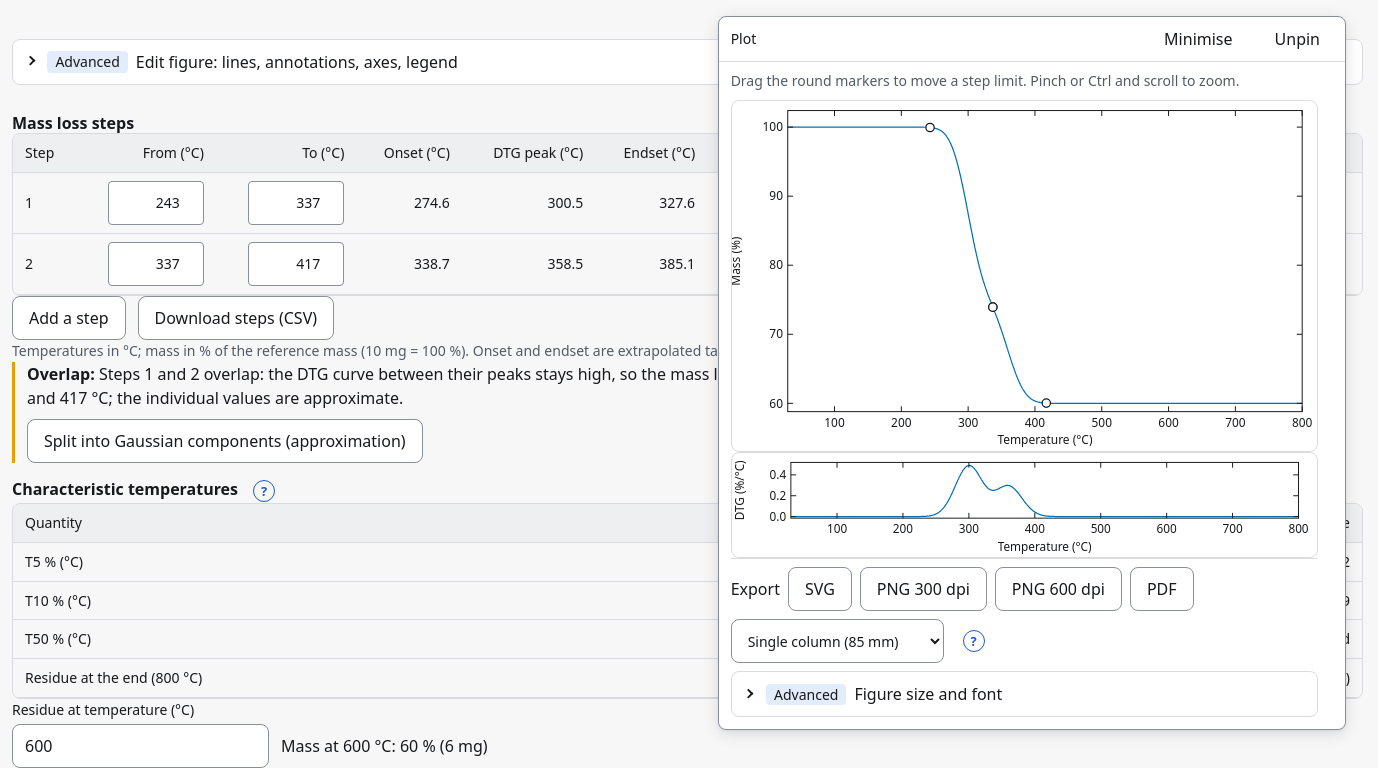
Test: thermal mass loss steps › reports overlapping steps as one region and splits them on request
(page scrolled)
Expected: the text "Overlap:" is shown, [27,363,95,385]
What coordinates should you click on to do the following:
click the button "Split into Gaussian components (approximation)"
I would click on:
 (225, 441)
Its box is [27,419,423,463].
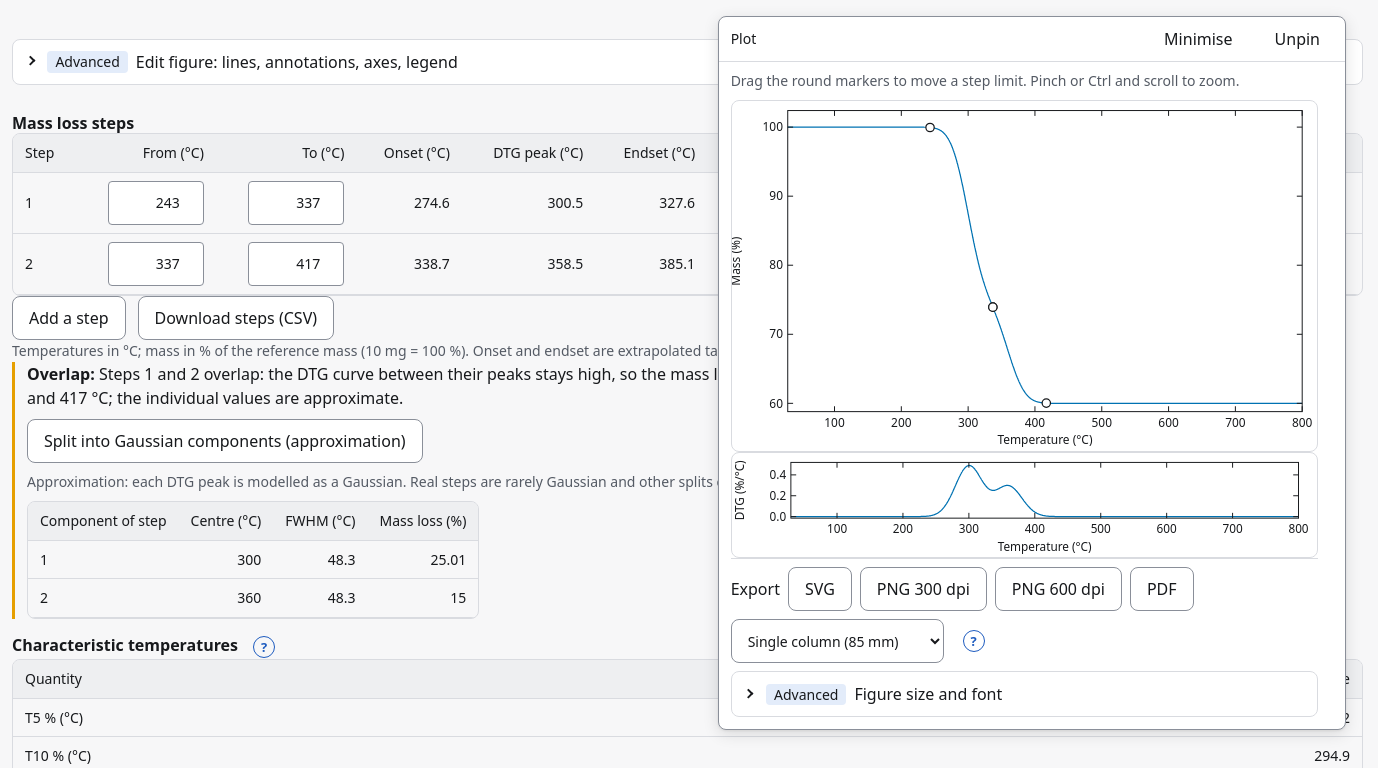
Expected: the text "Approximation" is shown, [27,472,1062,491]
